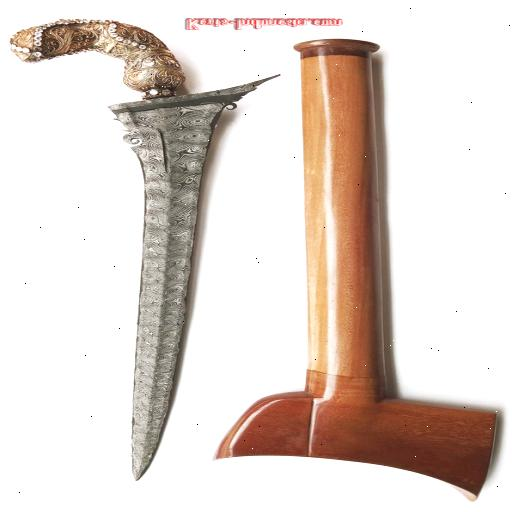Axe: (206, 37, 498, 504), (206, 36, 496, 500)
